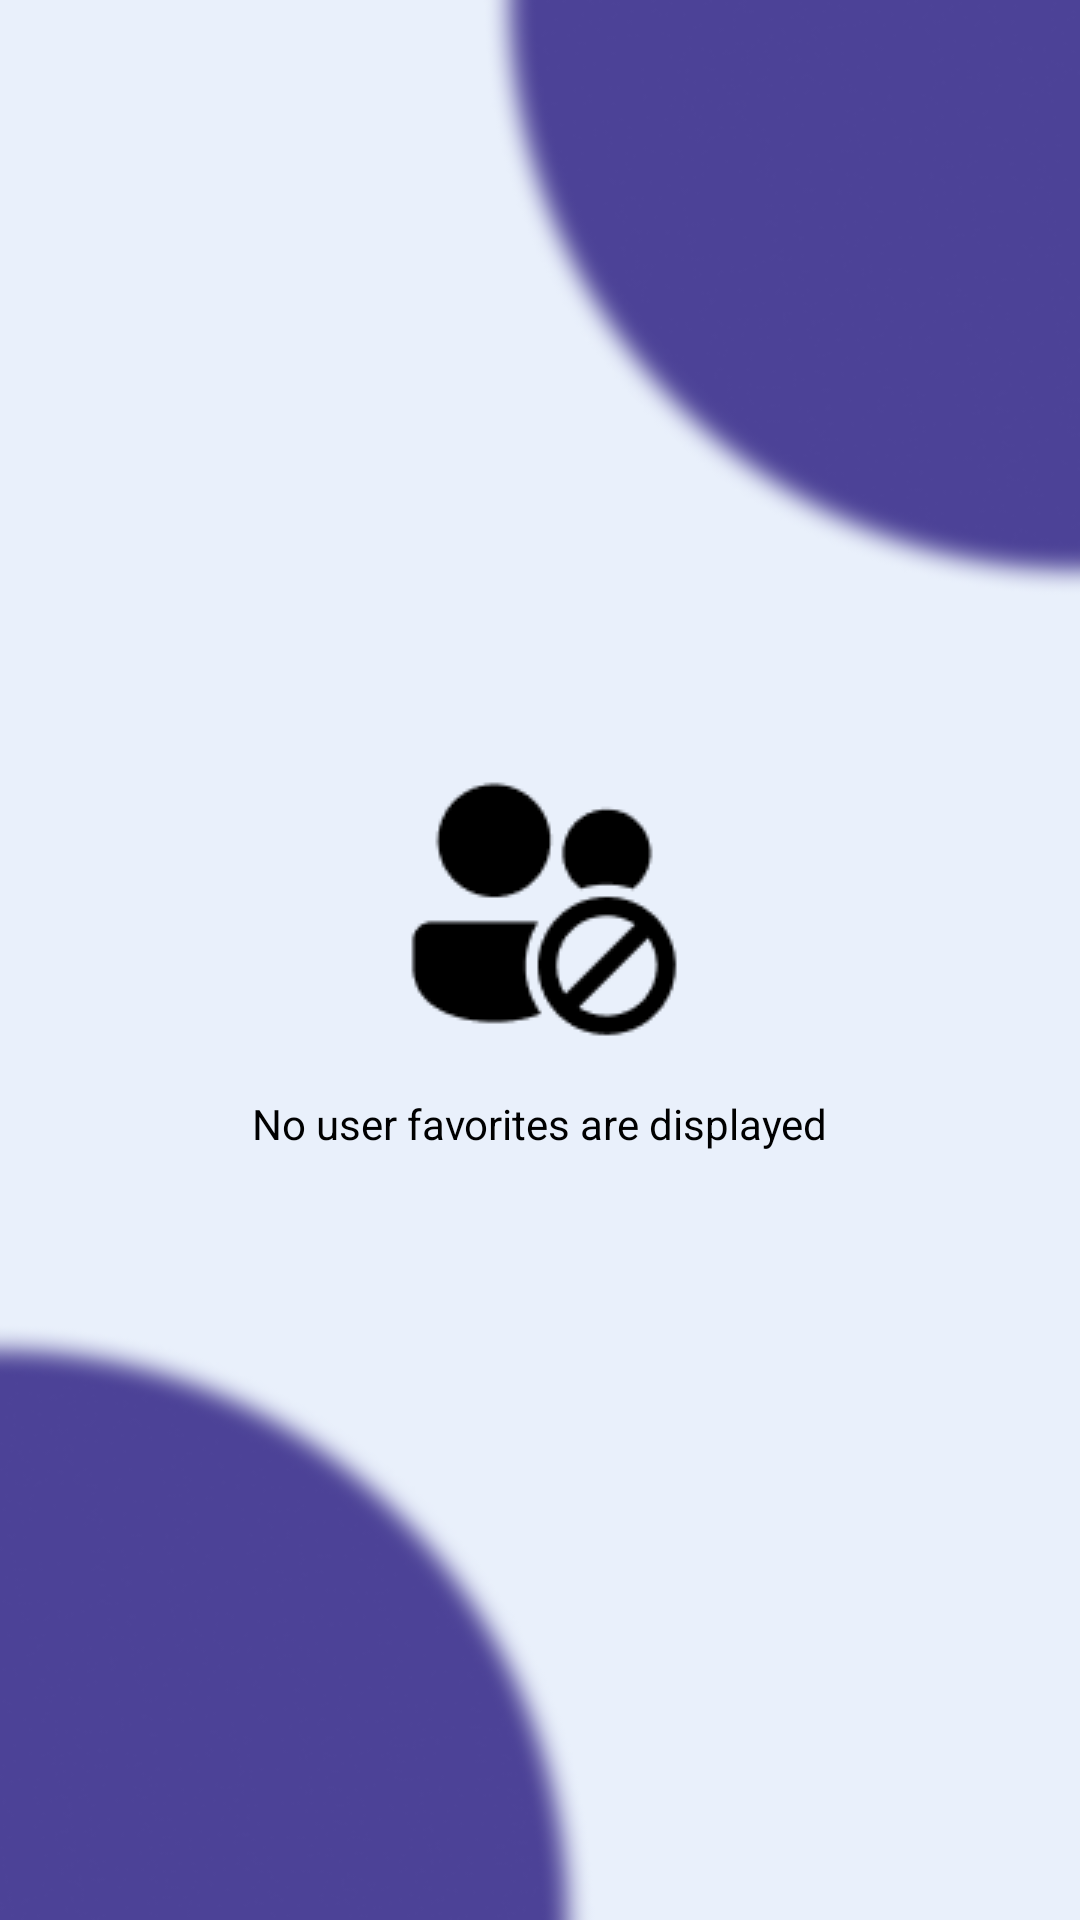

Screen size 1080w x 1920h. Icon name, then its center in pixels as (x=x, y=y):
emptyfavorite: (x=544, y=909)
